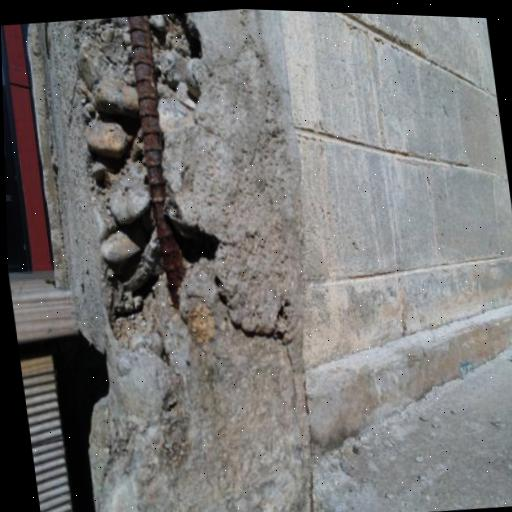exposed_rebar: (128, 16, 185, 309)
spalling: (74, 13, 285, 367)
